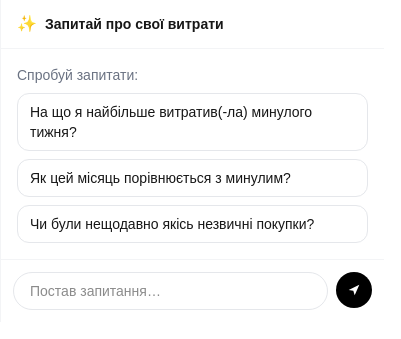
Test: AiPanel › shows the assistant's answer on a normal successful response
Click the button "Чи були нещодавно якісь незвичні покупки?": point(192, 224) [17,205,368,243]
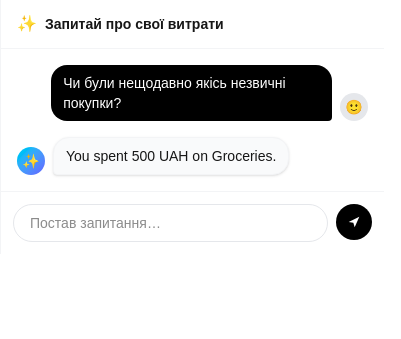
Expected: the field with placeholder "Постав запитання…" is shown, [13,204,328,242]
Now the text "You spent 500 UAH on Groceries." is shown, box [66,148,276,164]
